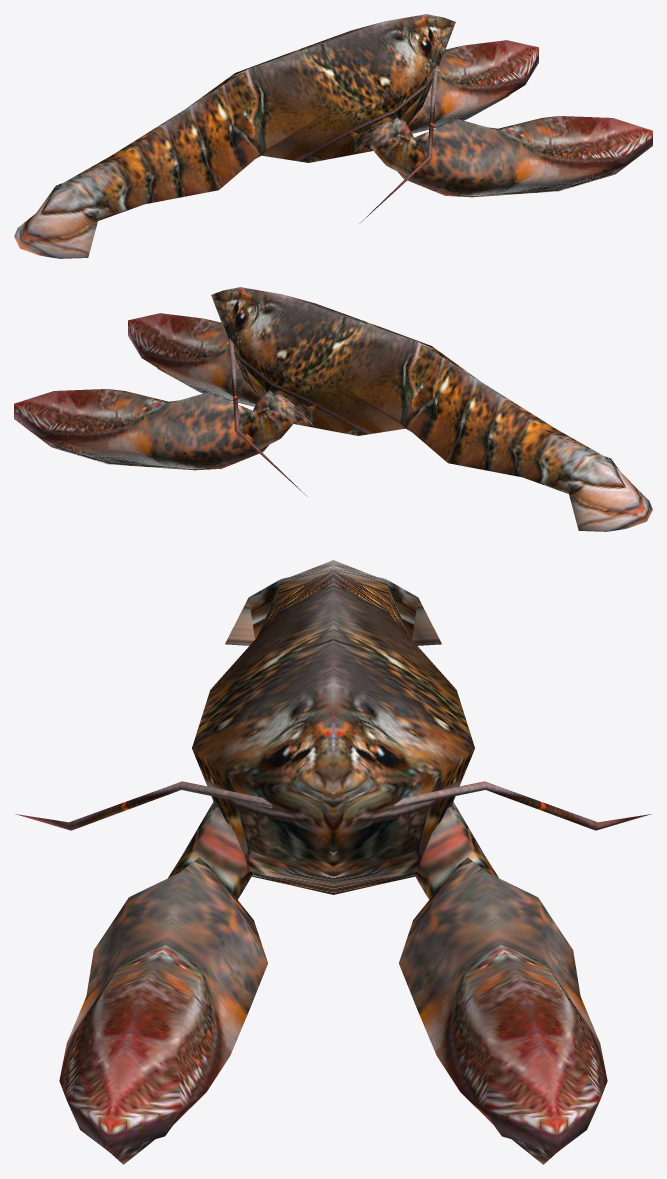
Rendered from crawfish_fbx.fbx.
3 renders of one model, top to bottom at view 1: azimuth 30°, elevation 25°; view 2: azimuth 150°, elevation 25°; view 3: azimuth 270°, elevation 25°, orthographic. The views are drawn at different scales.
Parts seen in each view (by area): view 1: pCube6, pCube12, pCube13, pCube9, pCylinder10; view 2: pCube6, pCube13, pCube12, pCube10, pCylinder11; view 3: pCube6, pCube13, pCube12, pCube9, pCube10, pCylinder10, pCylinder11.
Boxes of the visible parts, left/top/right/bottom form: pCube6: left=14, top=14, right=455, bottom=258; pCube12: left=398, top=116, right=652, bottom=197; pCube13: left=407, top=40, right=538, bottom=133; pCube9: left=369, top=117, right=424, bottom=176; pCylinder10: left=359, top=66, right=438, bottom=223; pCube6: left=211, top=287, right=652, bottom=531; pCube13: left=14, top=389, right=268, bottom=470; pCube12: left=128, top=313, right=259, bottom=406; pCube10: left=242, top=390, right=297, bottom=449; pCylinder11: left=228, top=339, right=307, bottom=496; pCube6: left=192, top=560, right=474, bottom=894; pCube13: left=399, top=857, right=607, bottom=1164; pCube12: left=59, top=857, right=267, bottom=1164; pCube9: left=168, top=802, right=252, bottom=899; pCube10: left=414, top=802, right=498, bottom=899; pCylinder10: left=15, top=781, right=272, bottom=830; pCylinder11: left=394, top=781, right=651, bottom=830.
Bounding box in the file's own units: 31.51 × 8.66 × 15.4.
